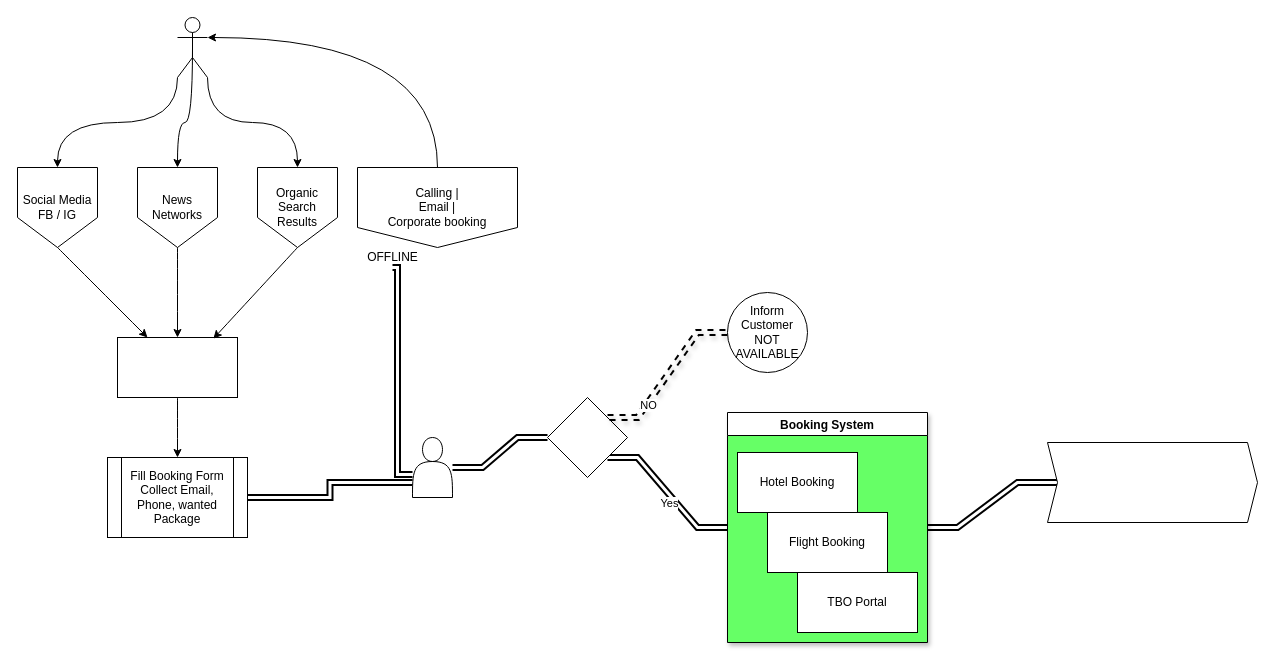
The diagram is 1275 pixels wide and 667 high, and some of its shapes have lost their labels. Here are the shapes that lost their labels. From the top down, the centre of each, then its label:
At (x=192, y=47): "Client".
At (x=177, y=367): "User Visit Site".
At (x=587, y=437): "Package Available".
At (x=432, y=467): "Staff".
At (x=1152, y=482): "Inform and notify customer @ Collected Email, Phone".
